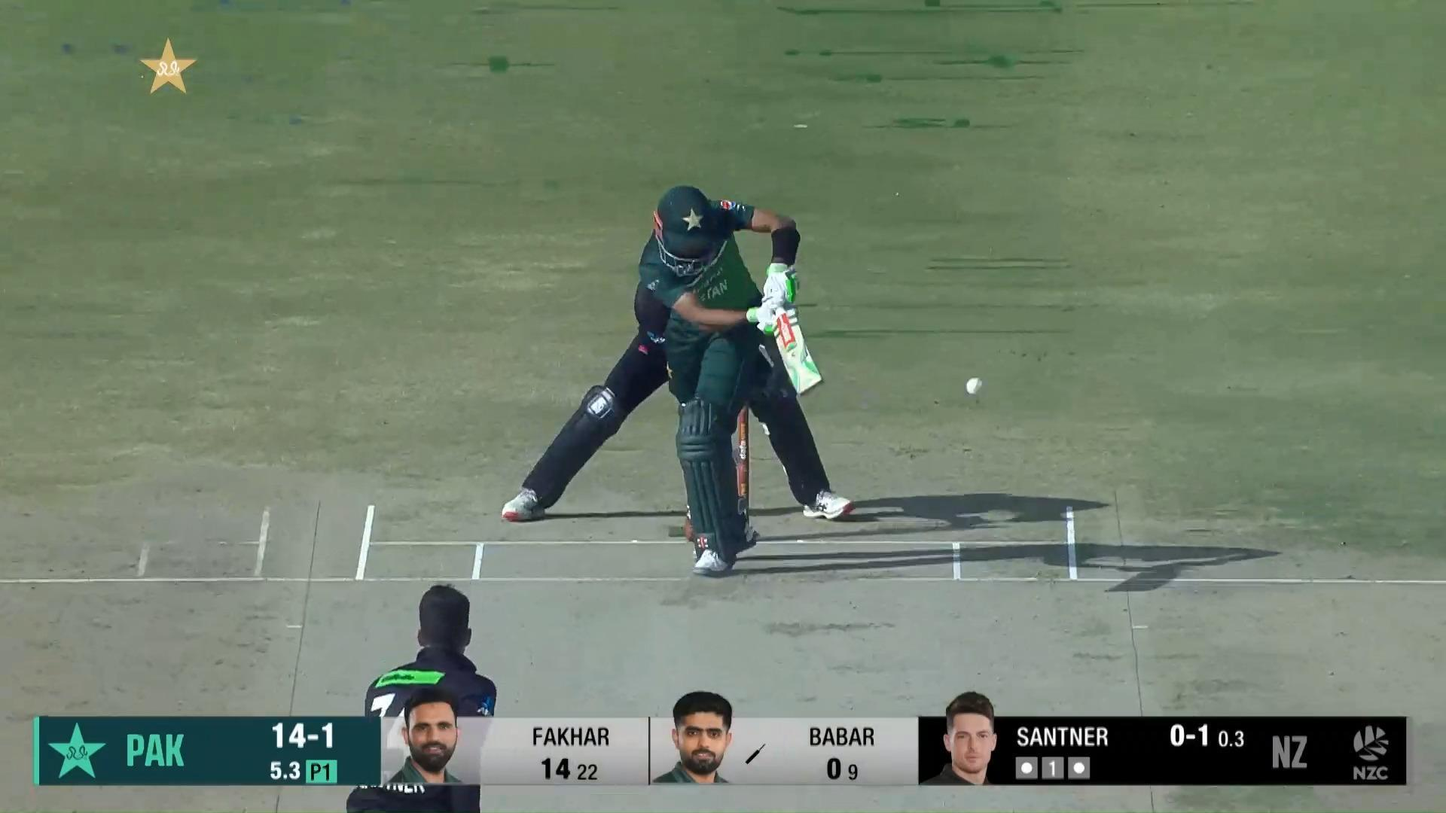BM 1: (639, 183, 857, 580)
BO: (344, 579, 500, 813)
